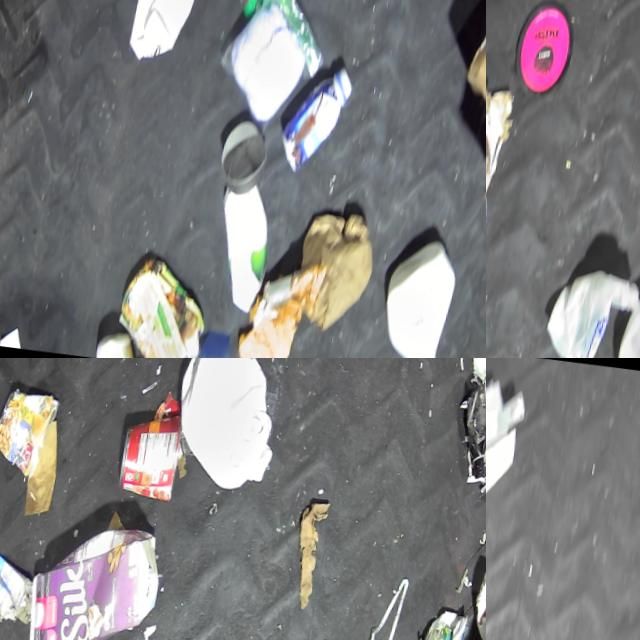can: (113, 409, 187, 505), (0, 387, 60, 482), (217, 116, 277, 198), (234, 0, 308, 29), (468, 568, 486, 640)
milk_jug: (161, 358, 295, 496), (207, 179, 286, 317), (541, 264, 640, 358), (127, 0, 222, 68)
non_white_jug: (21, 512, 168, 640)
